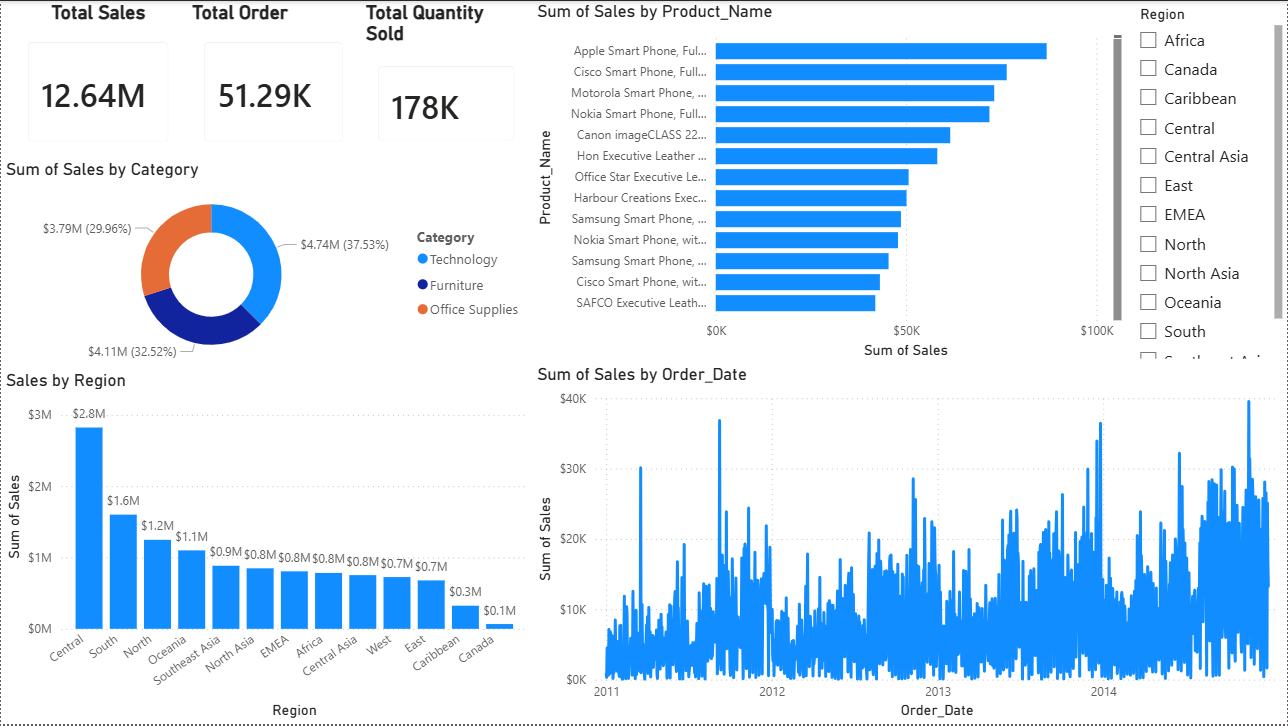

The dashboard page shown, as its layout file describes it:
{"tool":"powerbi","page":{"name":"Page 1","canvas":[1280,720],"ordinal":0},"visuals":[{"type":"cardVisual","title":"Total Sales","fields":{"Data":["superstore.Total Sales"]},"box":[10,0,174.2,158],"z":0},{"type":"cardVisual","title":"Total Order","fields":{"Data":["CountNonNull(superstore.Order_ID)"]},"box":[185.3,0,172.9,158],"z":1000},{"type":"cardVisual","title":"Total Quantity Sold","fields":{"Data":["Sum(superstore.Quantity)"]},"box":[358.3,0,170.4,156.7],"z":2000},{"type":"clusteredBarChart","fields":{"Category":["superstore.Product_Name"],"Y":["Sum(superstore.Sales)"]},"box":[528.9,0,591.6,360.8],"z":3000},{"type":"clusteredColumnChart","title":"Sales by Region","fields":{"Category":["superstore.Region"],"Y":["Sum(superstore.Sales)"]},"box":[0,367.5,528.9,351.8],"z":4000},{"type":"lineChart","fields":{"Category":["superstore.Order_Date"],"Y":["Sum(superstore.Sales)"]},"box":[528.9,360.8,750.7,358.6],"z":5000},{"type":"slicer","fields":{"Values":["superstore.Region"]},"box":[1120.5,0,159.1,360.8],"z":6000},{"type":"donutChart","fields":{"Category":["superstore.Category"],"Y":["Sum(superstore.Sales)"]},"box":[0,156.9,528.9,210.6],"z":7000}]}

Visuals, with their boxes in screenshot pixels (x1, y1, x2, y2), scaled from the page's 1280x720 canvas onto the 1288x726 screenshot:
"Total Sales" cardVisual: 10, 0, 185, 159
"Total Order" cardVisual: 186, 0, 360, 159
"Total Quantity Sold" cardVisual: 361, 0, 532, 158
clusteredBarChart - superstore.Product_Name x Sum(superstore.Sales): 532, 0, 1128, 364
"Sales by Region" clusteredColumnChart: 0, 371, 532, 725
lineChart - superstore.Order_Date x Sum(superstore.Sales): 532, 364, 1287, 725
slicer - superstore.Region: 1128, 0, 1287, 364
donutChart - superstore.Category x Sum(superstore.Sales): 0, 158, 532, 371
